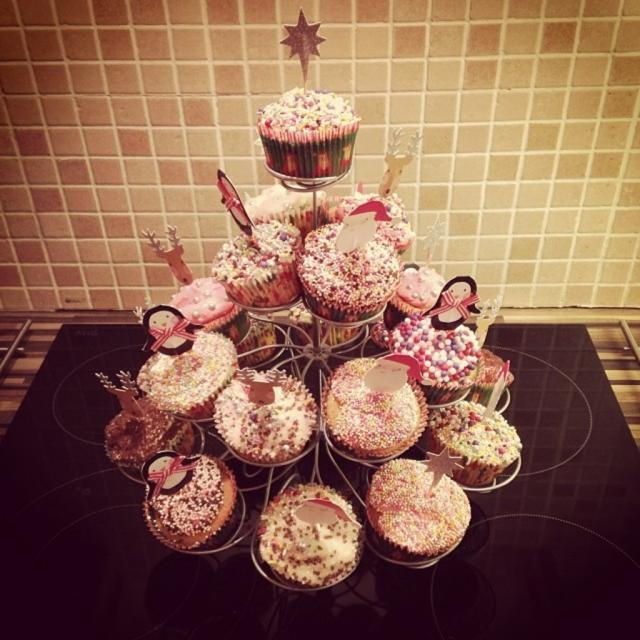Muffin: (92, 7, 520, 590)
